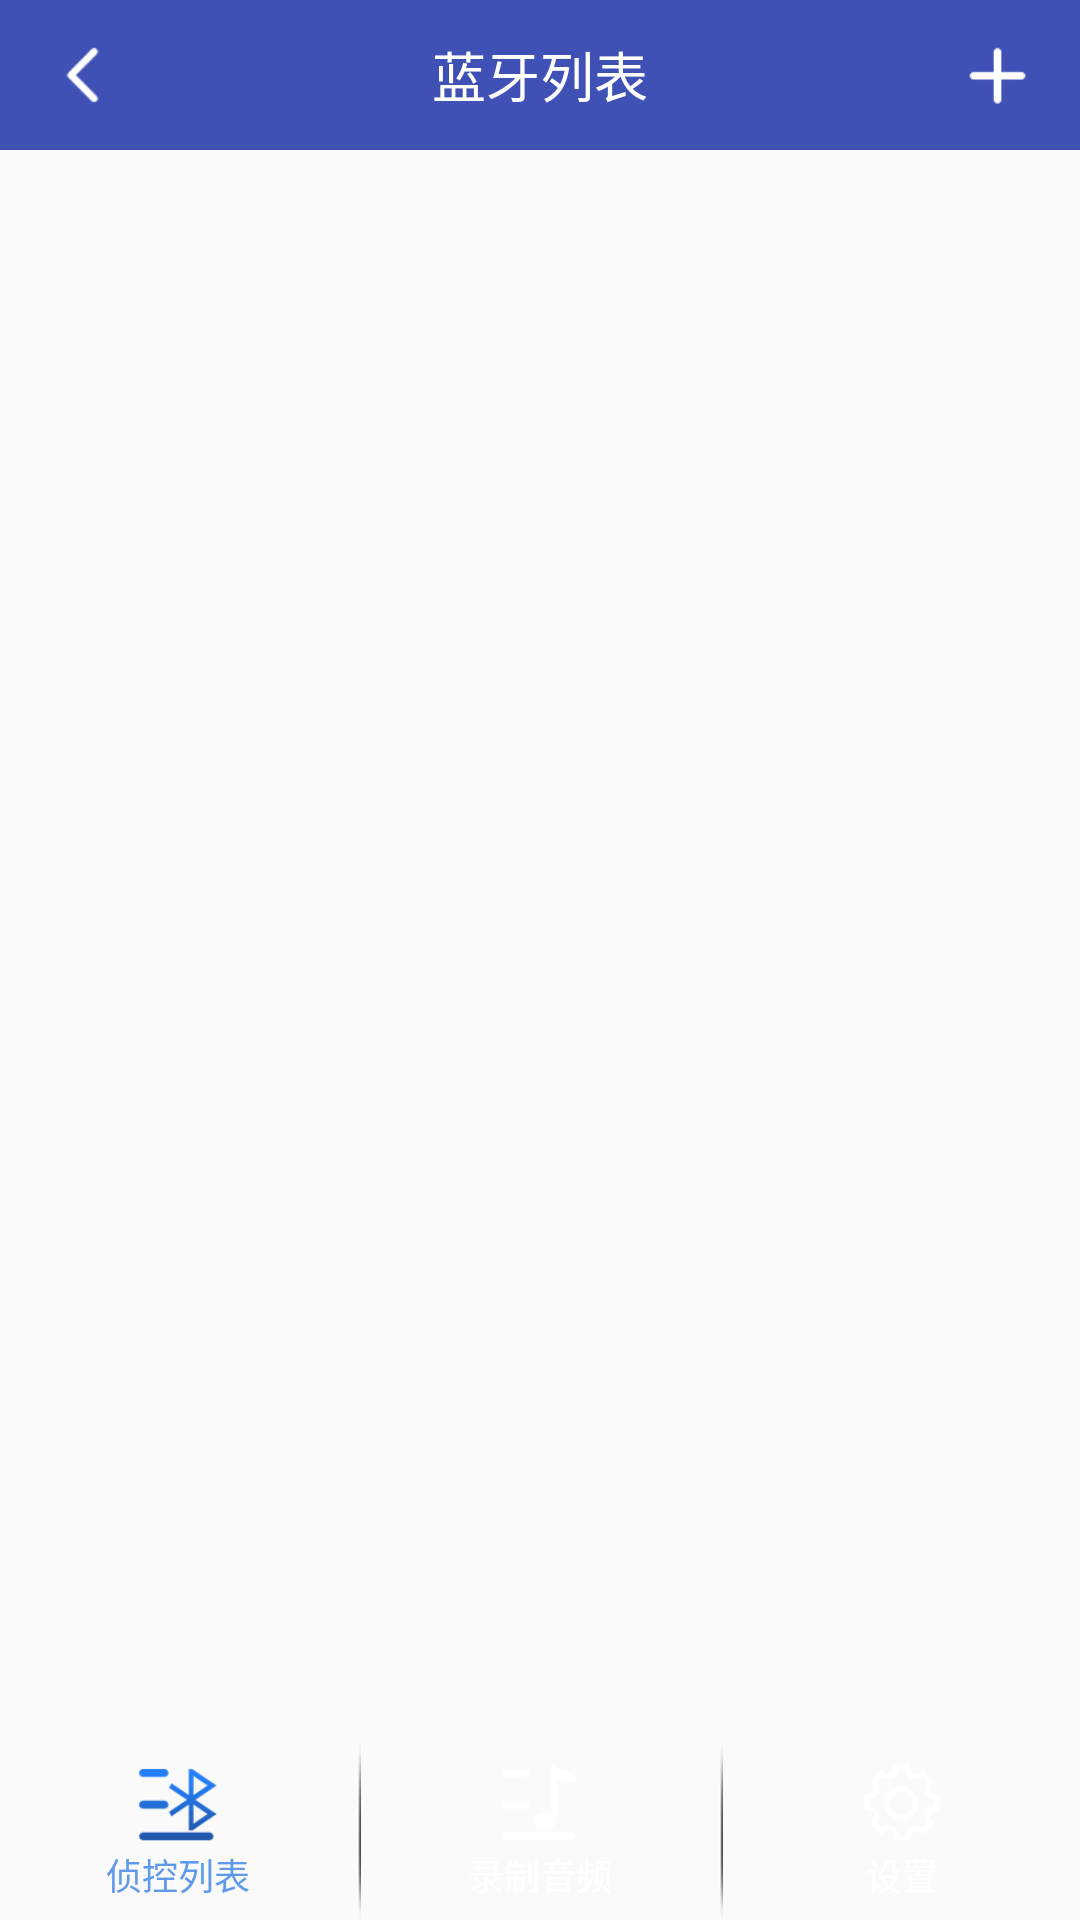

Icon bounding boxes for this 1080px×1920px phone screenshot, format bbox=(x1, y1, x2, y2):
add device: bbox=(969, 47, 1026, 104)
back: bbox=(66, 47, 99, 103)
